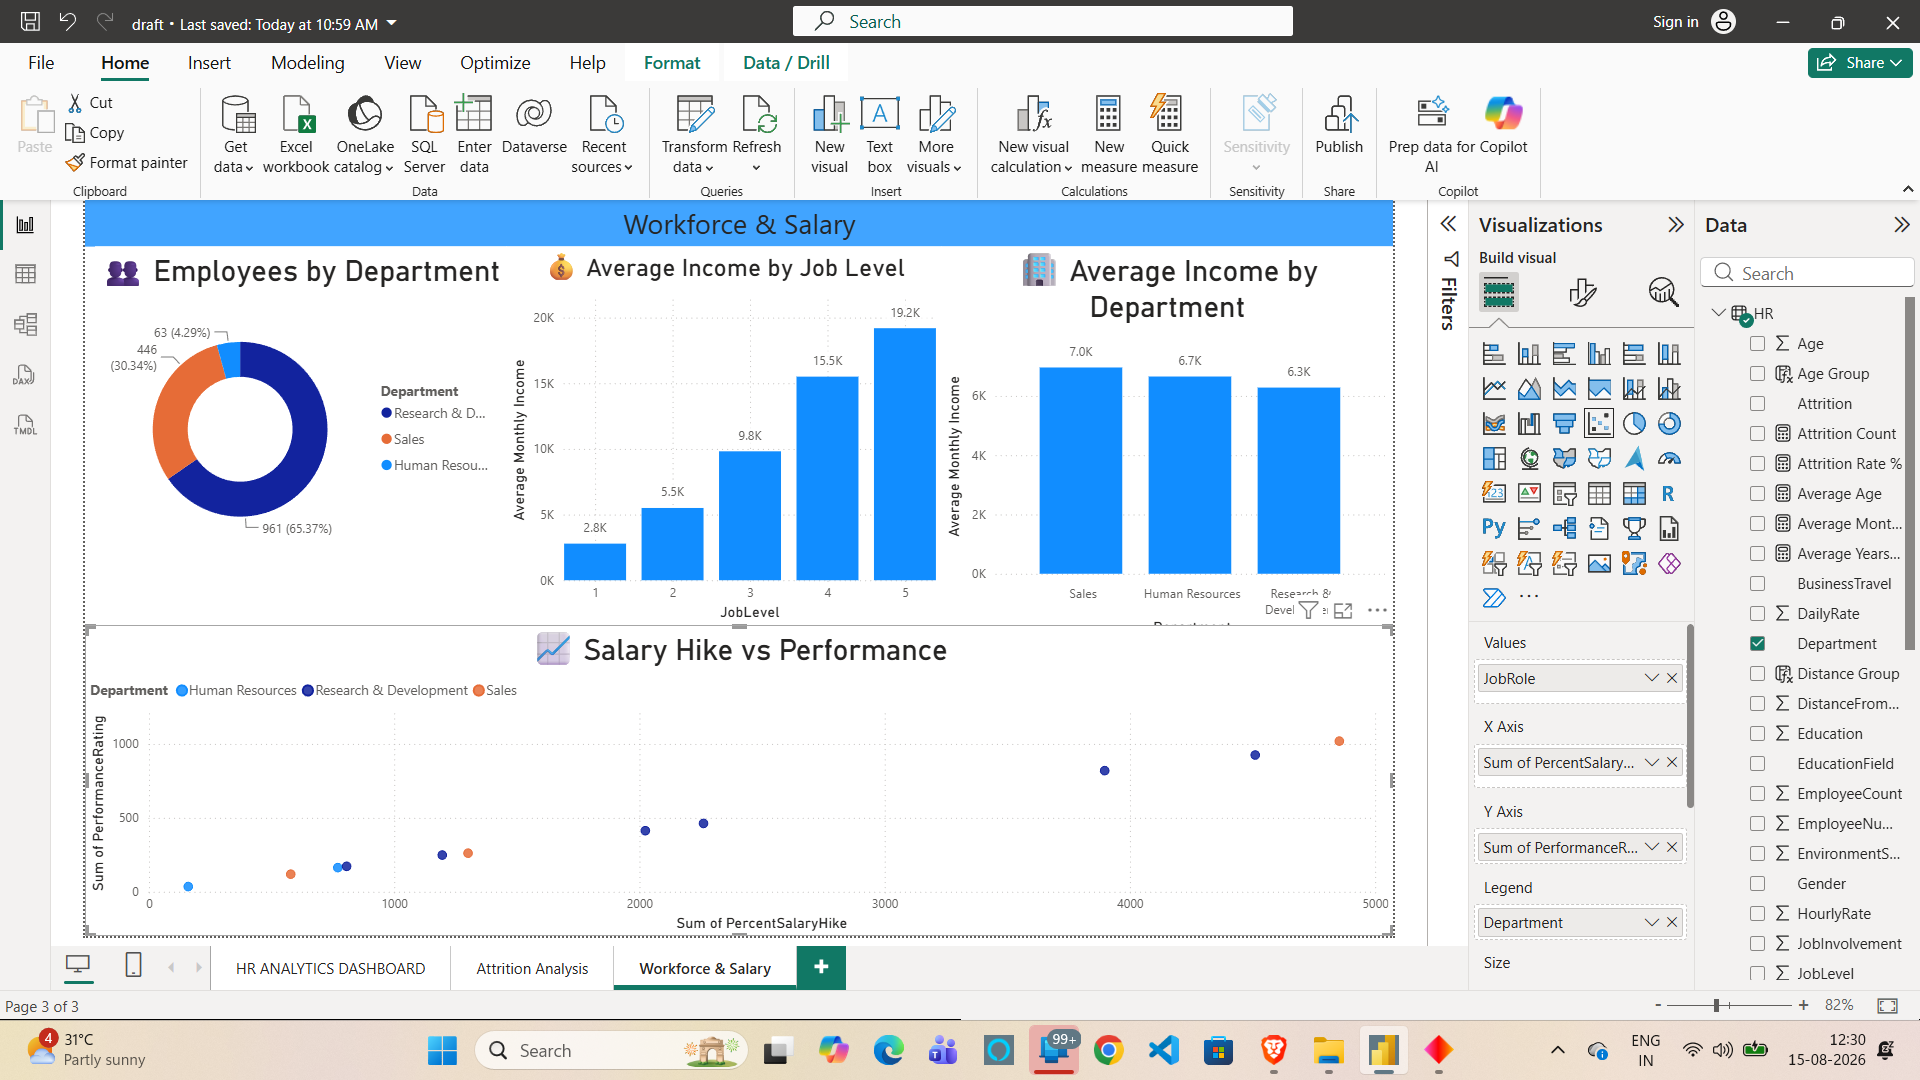

Layout of this report page (visuals, bound fields, positions):
{"tool":"powerbi","page":{"name":"Workforce & Salary","canvas":[1280,720],"ordinal":2},"visuals":[{"type":"textbox","box":[10,290,280,280],"z":0},{"type":"textbox","box":[0,0,1280.3,45.2],"z":1000},{"type":"donutChart","title":"👥 Employees by Department","fields":{"Category":["HR.Department"],"Y":["HR.Total Employees"]},"box":[9.7,76.5,402.1,282.4],"z":2000},{"type":"lineClusteredColumnComboChart","title":"💰 Average Income by Job Level","fields":{"Category":["HR.JobLevel"],"Y":["HR.Average Monthly Income"]},"box":[411.8,76.5,425.7,339.5],"z":3000},{"type":"lineClusteredColumnComboChart","title":"🏢 Average Income by Department","fields":{"Category":["HR.Department"],"Y":["HR.Average Monthly Income"]},"box":[837.6,76.5,442.4,353.4],"z":4000},{"type":"scatterChart","title":"📈 Salary Hike vs Performance","fields":{"X":["HR.Average Salary Hike"],"Category":["HR.JobRole"],"Series":["HR.Department"],"Y":["HR.Average Performance Rating"]},"box":[0,430.4,1280.3,289.8],"z":5000},{"type":"pageNavigator","box":[0,45.9,1280,20.5],"z":8000},{"type":"listSlicer","fields":{"Values":["HR.BusinessTravel"]},"box":[0,335.4,222,132.7],"z":8001}]}

Visuals, with their boxes on the page's 1280x720 design canvas (x1, y1, x2, y2). These are canvas units, not pixel positions in the 1920x1080 screenshot, which may show the page scaled, cropped or inside an application window:
textbox: x1=10 y1=290 x2=290 y2=570
textbox: x1=0 y1=0 x2=1280 y2=45
"👥 Employees by Department" donutChart: x1=10 y1=76 x2=412 y2=359
"💰 Average Income by Job Level" lineClusteredColumnComboChart: x1=412 y1=76 x2=838 y2=416
"🏢 Average Income by Department" lineClusteredColumnComboChart: x1=838 y1=76 x2=1280 y2=430
"📈 Salary Hike vs Performance" scatterChart: x1=0 y1=430 x2=1280 y2=720
pageNavigator: x1=0 y1=46 x2=1280 y2=66
listSlicer - HR.BusinessTravel: x1=0 y1=335 x2=222 y2=468
